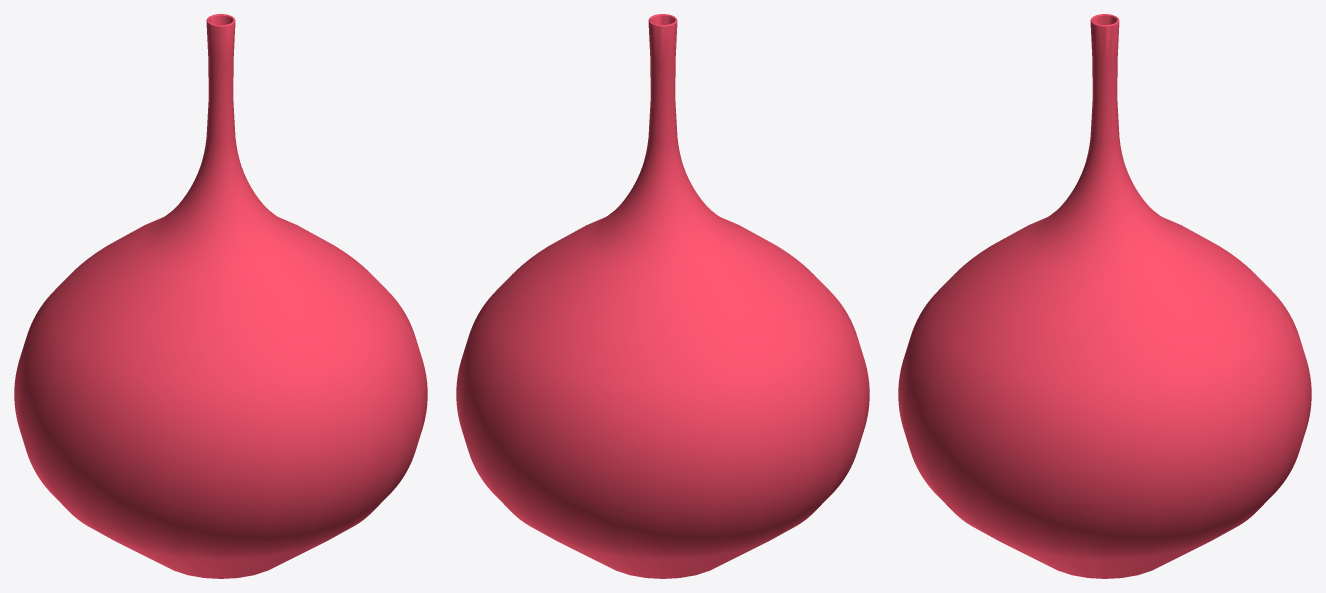
File: Pot12.fbx
The picture shows the model from 3 angles, left to right: view 1: azimuth 30°, elevation 25°; view 2: azimuth 150°, elevation 25°; view 3: azimuth 270°, elevation 25°; orthographic projection.
Parts seen in each view (by area): view 1: Pot12; view 2: Pot12; view 3: Pot12.
Part boxes in pixels (<box>): Pot12: <box>14,14,427,578</box>; Pot12: <box>456,14,869,578</box>; Pot12: <box>898,14,1311,578</box>.
Bounding box in the file's own units: 0.1558 × 0.2216 × 0.1558.
